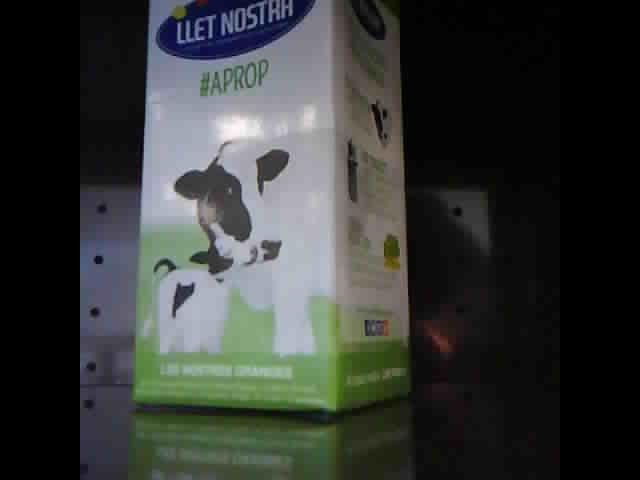leche: (132, 3, 412, 414)
